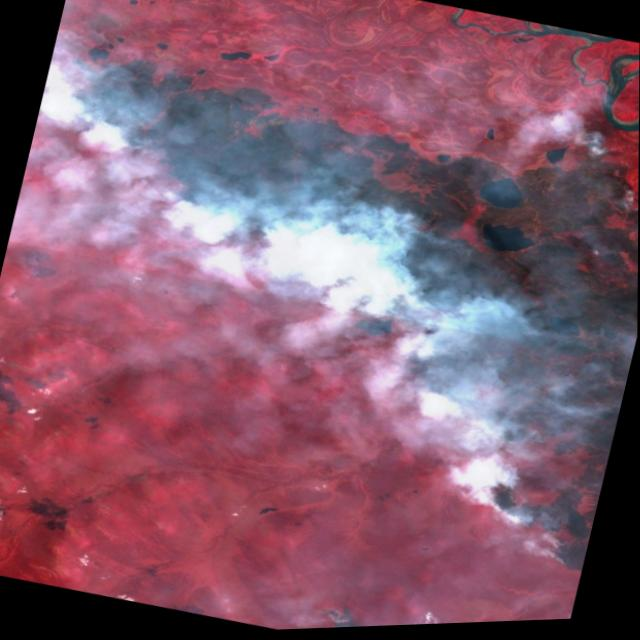fire: (0, 58, 640, 589), (544, 116, 639, 186)
